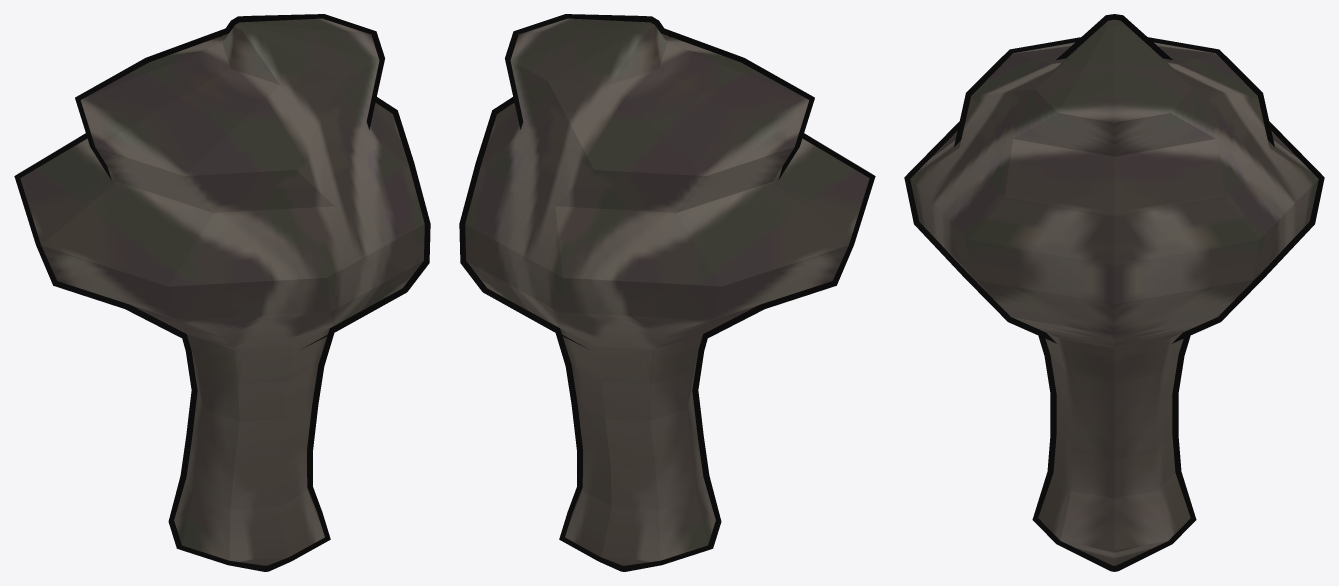
The model's file is Plant_Plant_TreeSnagroot_Things_Plant_TreeSnagroot_SnagrootB.glb.
The picture shows the model from 3 angles, left to right: view 1: azimuth 30°, elevation 25°; view 2: azimuth 150°, elevation 25°; view 3: azimuth 270°, elevation 25°; orthographic projection. The views are drawn at different scales.
Visible parts, largest first — view 1: Body, Outline; view 2: Body, Outline; view 3: Body, Outline.
Part boxes in pixels (x1,y1,x2,y2): Body: (20, 18, 424, 565); Outline: (14, 14, 430, 571); Body: (465, 18, 869, 565); Outline: (459, 14, 875, 571); Body: (910, 19, 1318, 565); Outline: (904, 14, 1324, 571).
Bounding box in the file's own units: 0.5387 × 0.7656 × 0.5385.
2 materials, 1 textured.
